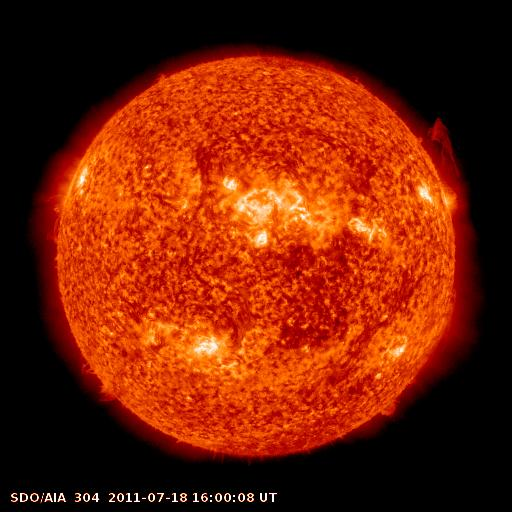prominence: (422, 106, 472, 190), (71, 351, 127, 410), (41, 196, 67, 246), (375, 392, 404, 423)
